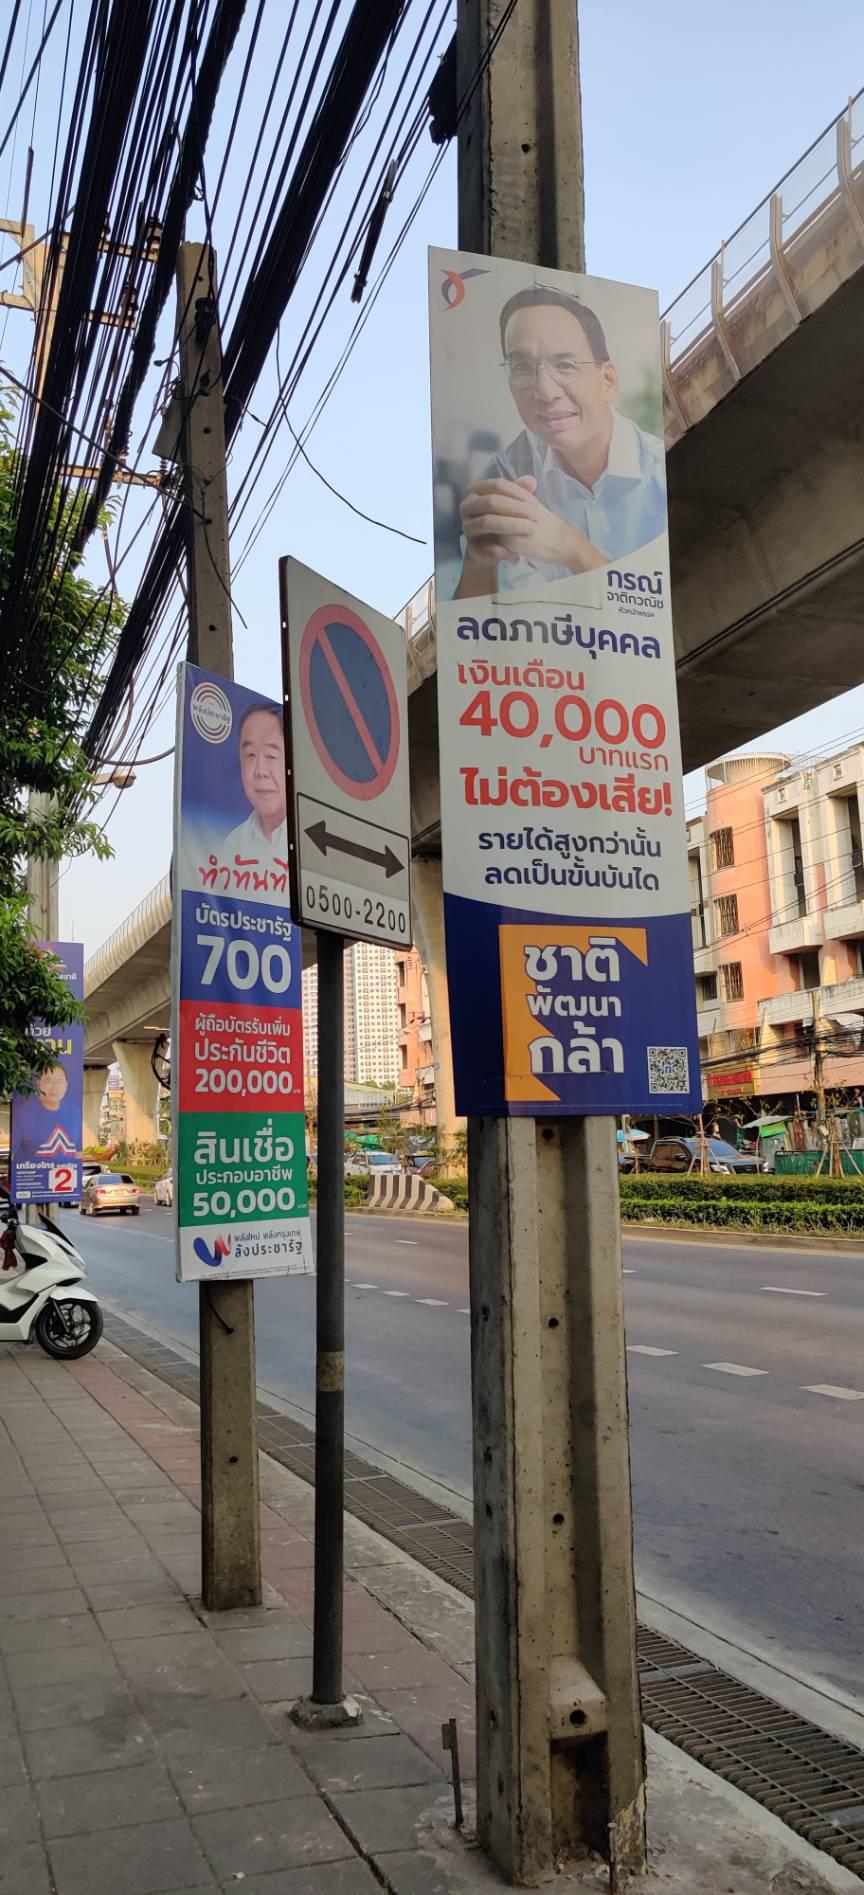Banner: (433, 243, 702, 1130), (168, 655, 321, 1281)
